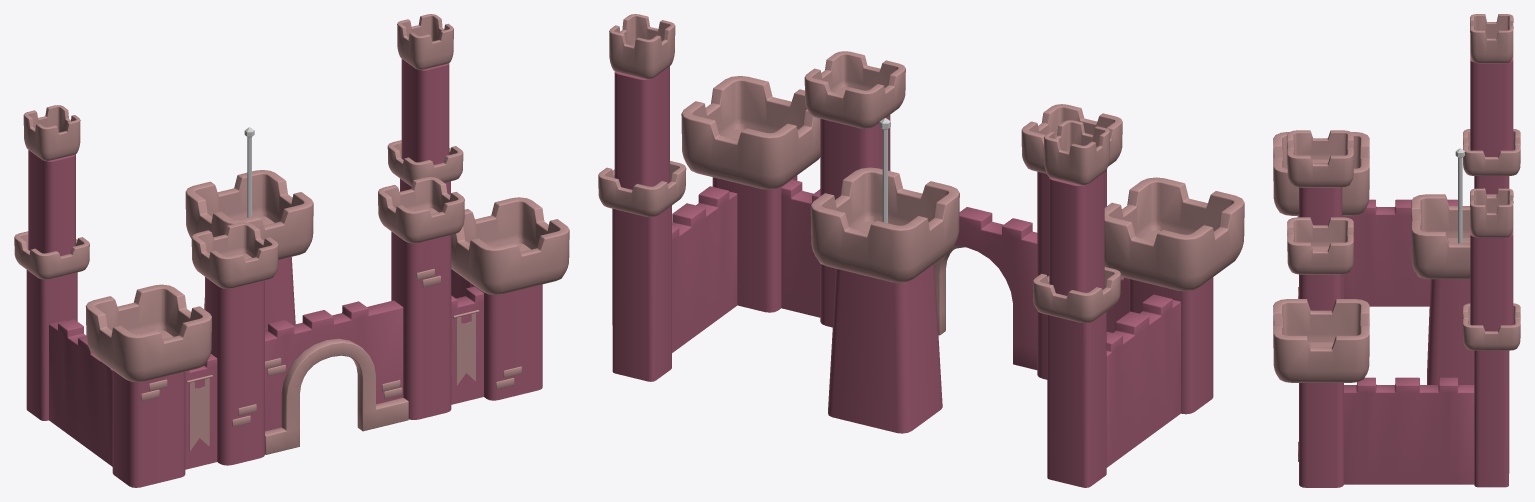
The model's file is castle_pink_flag.fbx.
3 views of the same model, side by side, from view 1: azimuth 30°, elevation 25°; view 2: azimuth 150°, elevation 25°; view 3: azimuth 270°, elevation 25° (orthographic). The views are drawn at different scales.
Parts seen in each view (by area): view 1: castle_pink; view 2: castle_pink; view 3: castle_pink.
Boxes of the visible parts, x1=… form: castle_pink: x1=14, y1=14, x2=569, y2=487; castle_pink: x1=598, y1=14, x2=1244, y2=487; castle_pink: x1=1273, y1=14, x2=1520, y2=487.
Bounding box in the file's own units: 2.81 × 1.78 × 1.42.
